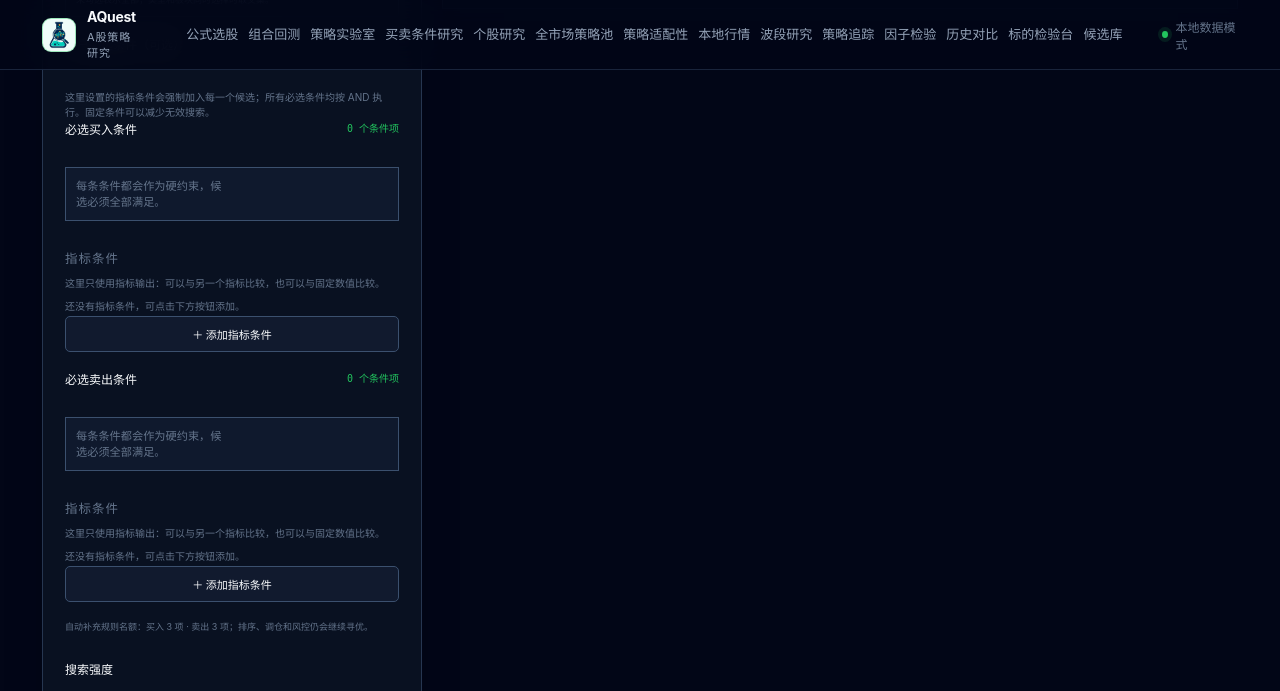
StrategyDiscoveryPage › runs the current leaderboard top ten and renders full-range period metrics
The width and height of the screenshot is (1280, 691).
(page scrolled)
Submit the form with test id "strategy-discovery-config"
(page scrolled)
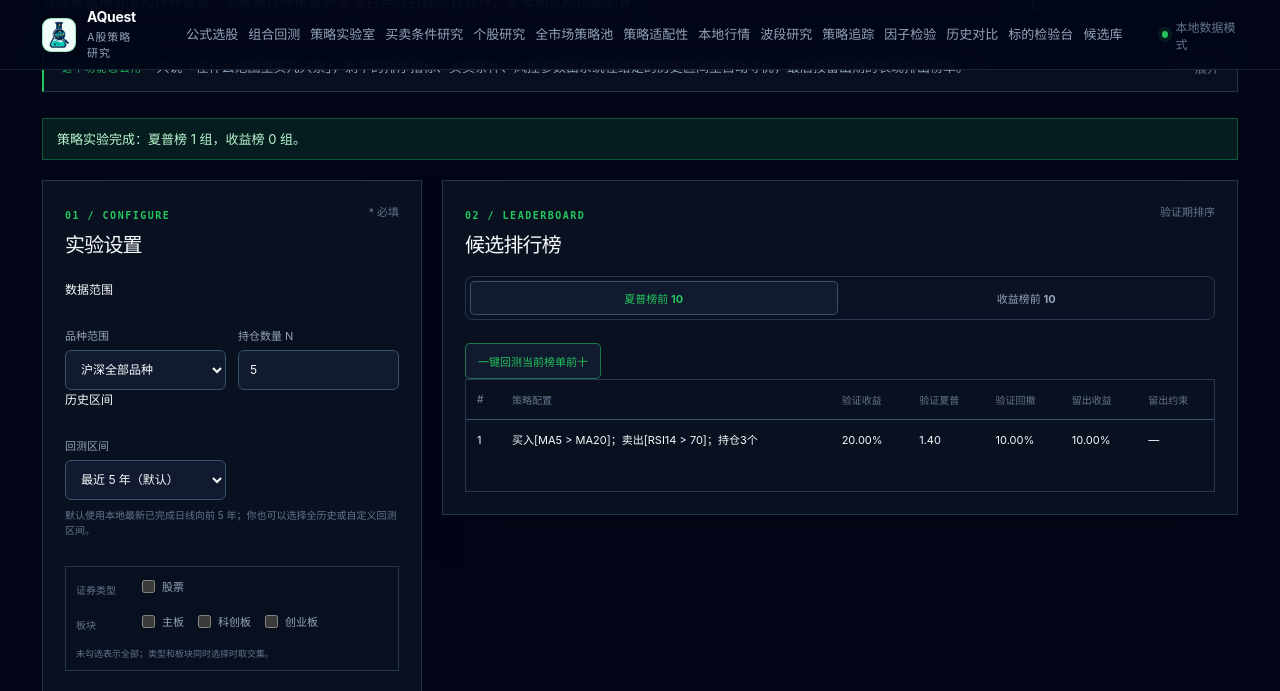
Click the button with test id "strategy-discovery-replay" at [533, 360], box [465,342,601,378]
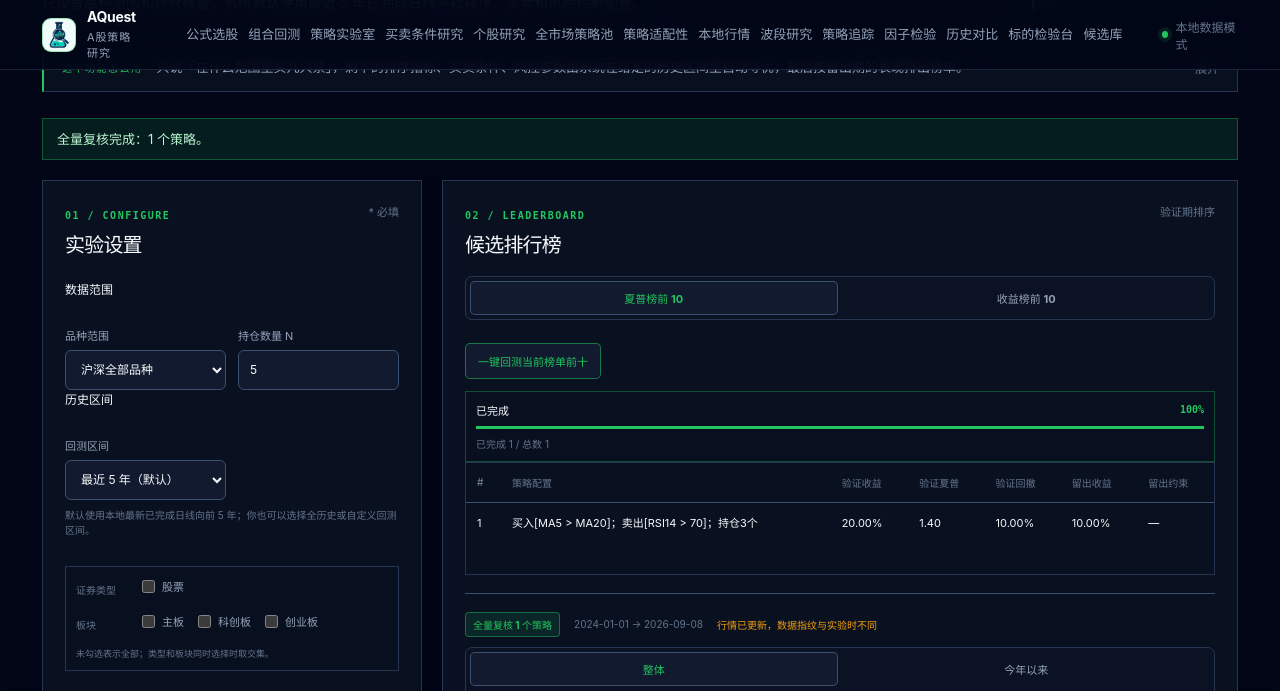
Expected: the element with test id "strategy-replay-results" shows "行情已更新", [717,618,877,630]
Click the tab with test id "strategy-replay-period-ytd" at [1026, 668], box [842,652,1210,686]
(page scrolled)
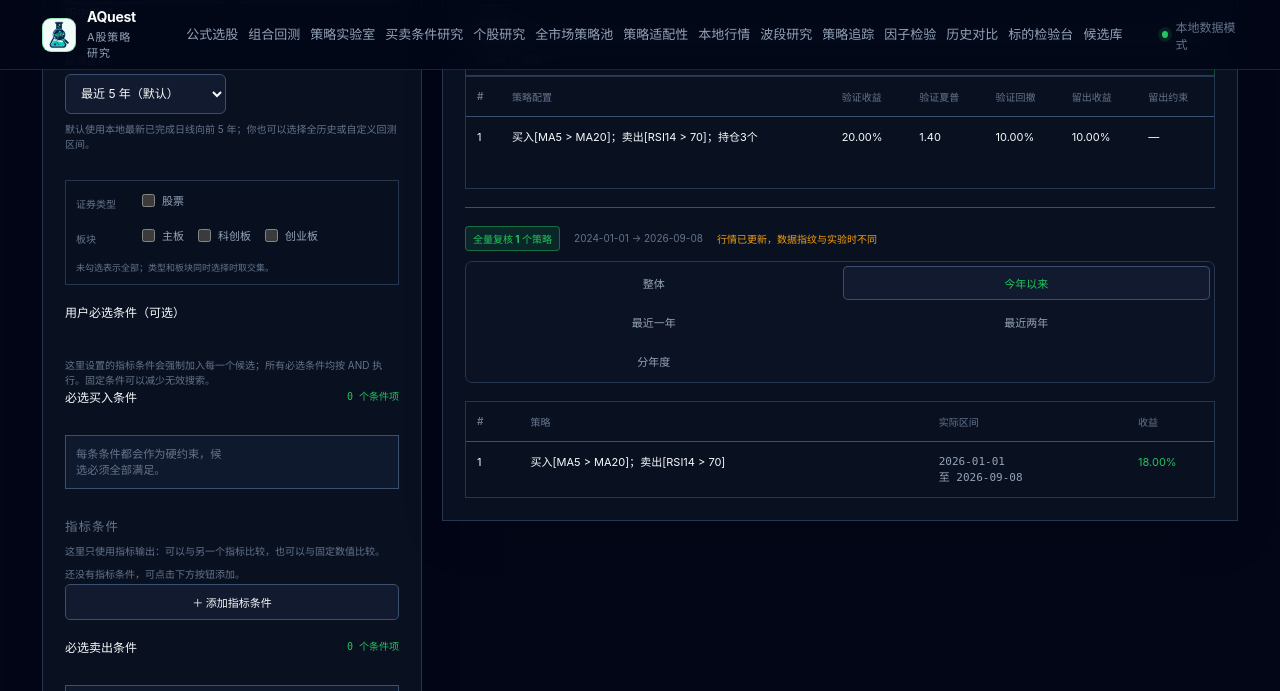
Expected: the element with test id "strategy-replay-results" shows "18.00%", [1138,454,1177,468]
Click the tab with test id "strategy-replay-period-annual" at [654, 360], box [470,344,838,378]
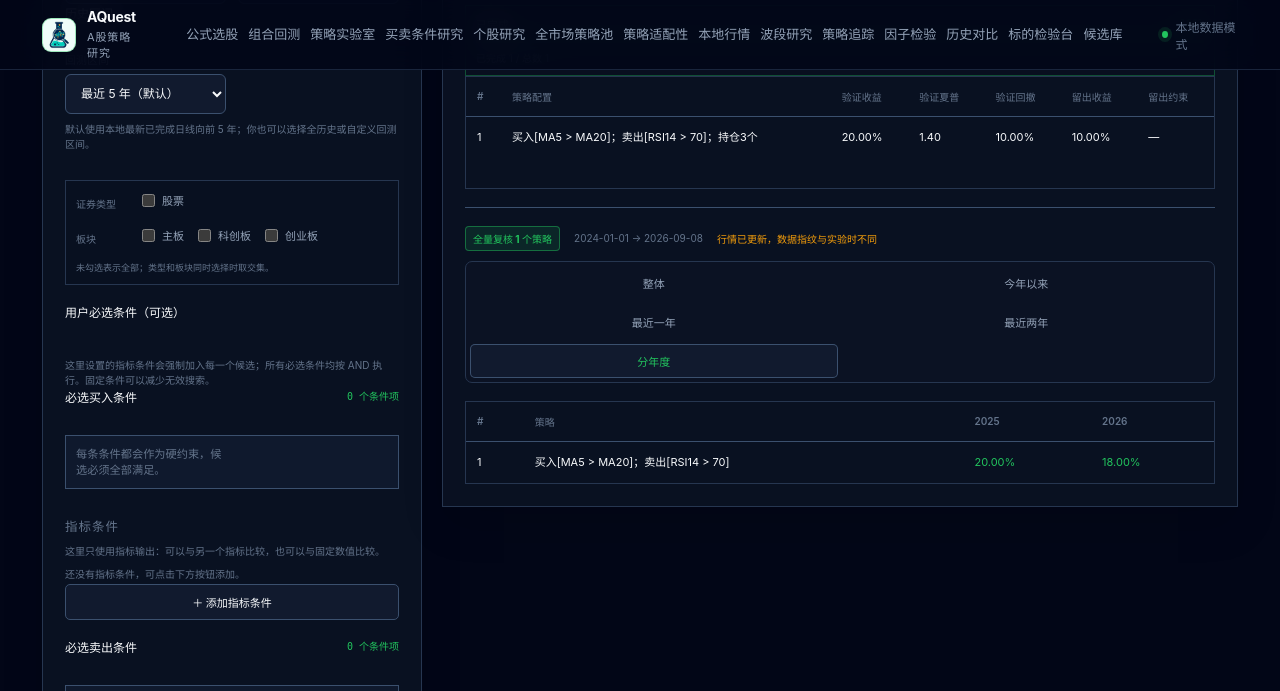
Expected: the element with test id "strategy-replay-results" shows "2026", [1102,415,1128,427]
Click the button with test id "strategy-replay-candidate-s1" at [632, 462], box [535,454,730,470]
(page scrolled)
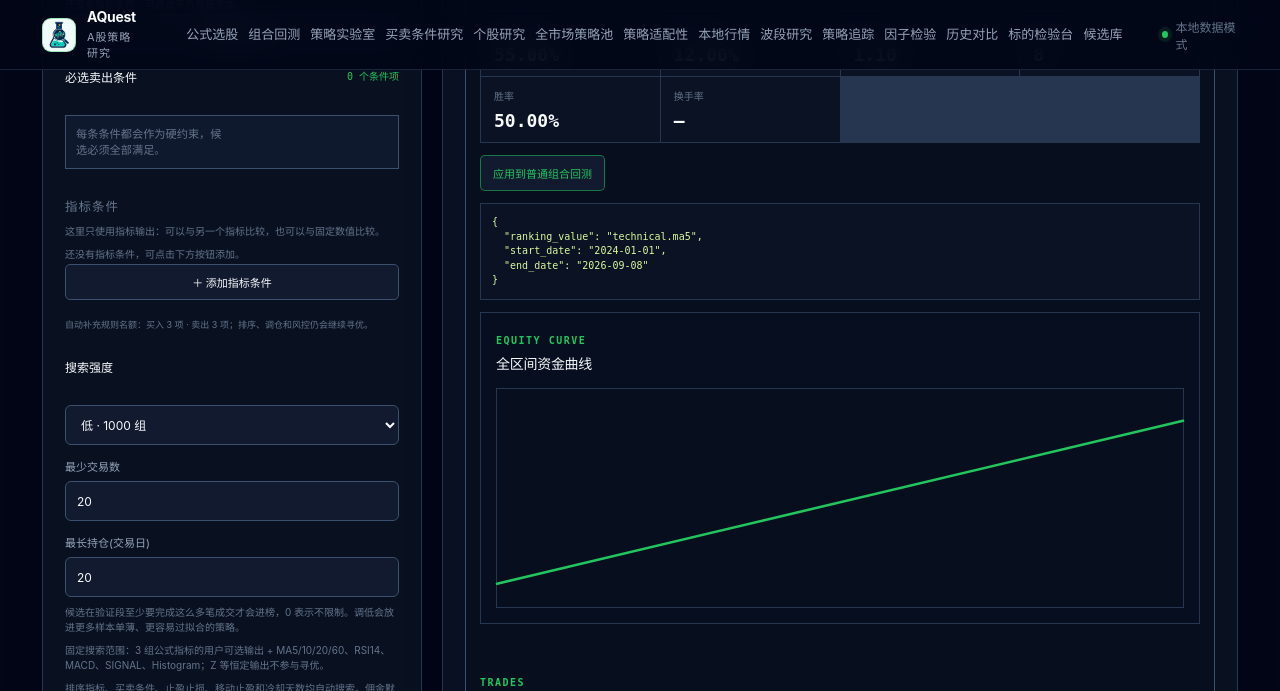
Expected: the element with test id "strategy-replay-detail-s1" shows "technical.ma5", [492,216,703,285]
